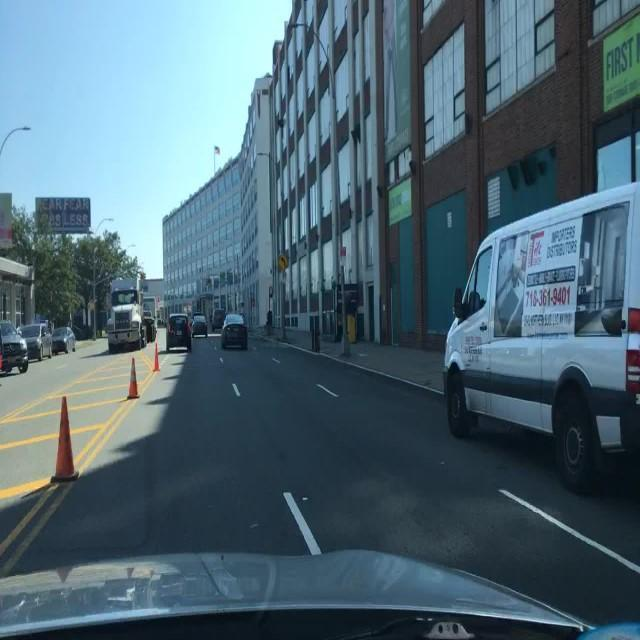normal: (407, 136, 640, 509), (0, 262, 285, 365)
